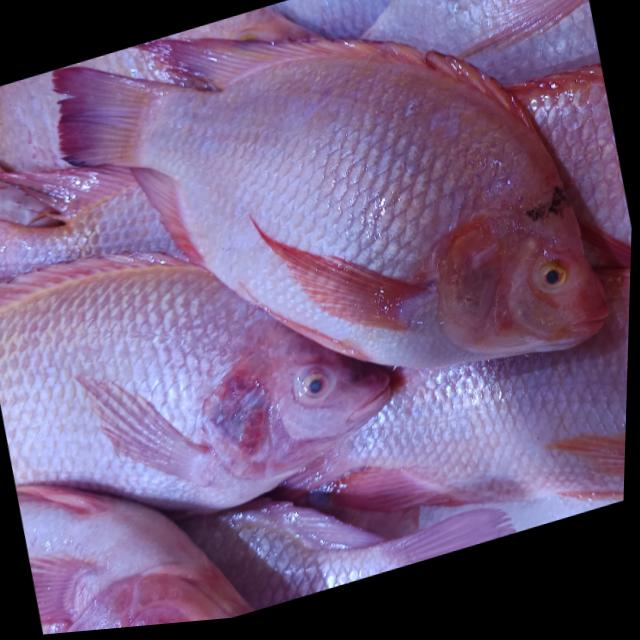Tilapia: (32, 0, 626, 491), (0, 169, 414, 572), (227, 252, 631, 607)
